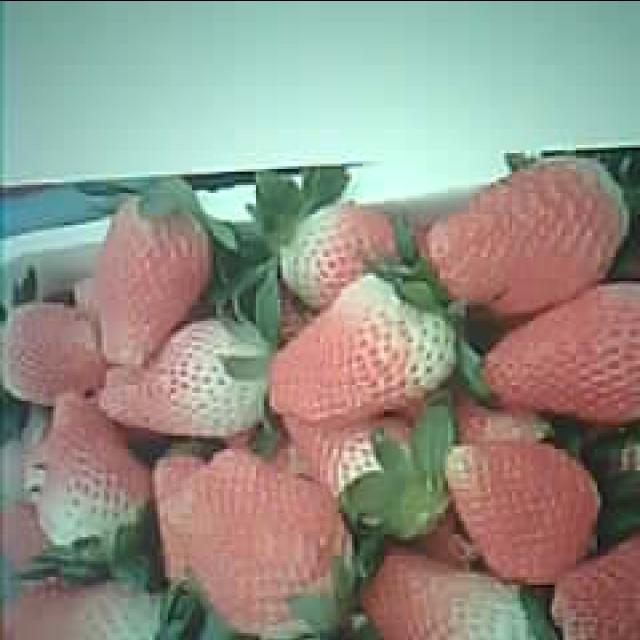strawberry: (173, 453, 348, 635), (427, 156, 626, 312), (269, 274, 453, 420), (482, 286, 640, 424), (448, 438, 596, 581), (95, 192, 213, 358), (40, 397, 152, 569), (98, 320, 264, 436)
